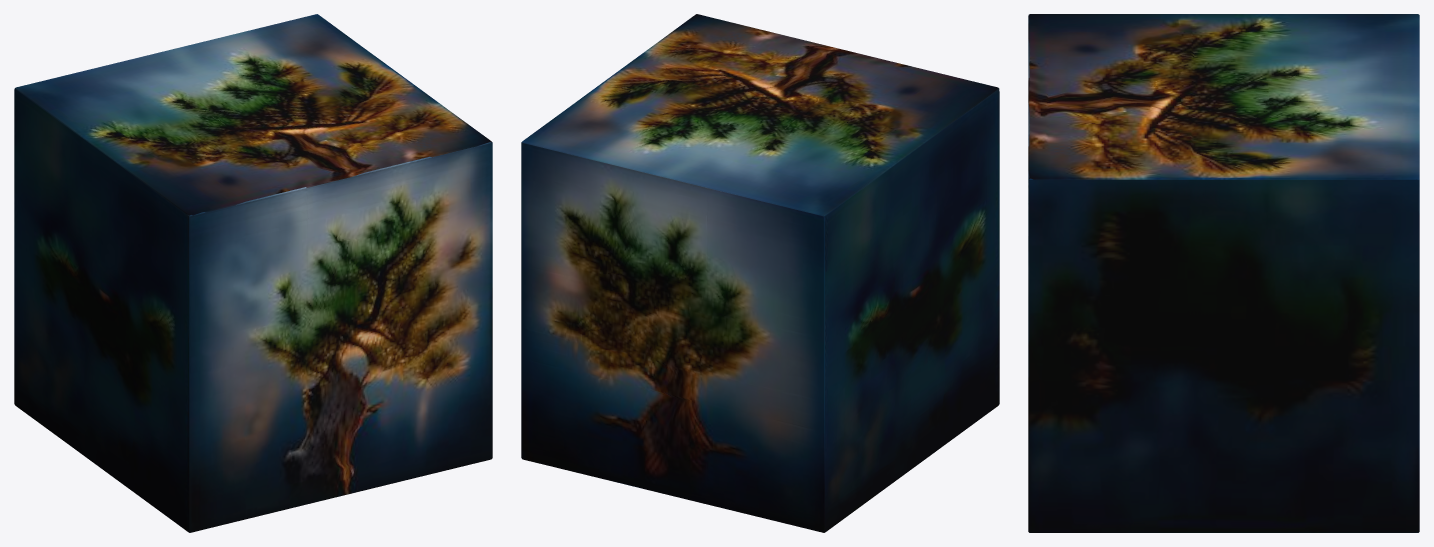
File: env_tree_pine_01.glb
3 views of the same model, side by side, from view 1: azimuth 30°, elevation 25°; view 2: azimuth 150°, elevation 25°; view 3: azimuth 270°, elevation 25° (orthographic). The views are drawn at different scales.
Visible parts, largest first — view 1: d62fe5fe-a557-42f6-9040-6defde6eb039_texturing.obj; view 2: d62fe5fe-a557-42f6-9040-6defde6eb039_texturing.obj; view 3: d62fe5fe-a557-42f6-9040-6defde6eb039_texturing.obj.
Boxes of the visible parts, x1,y1,x2,y2 form: d62fe5fe-a557-42f6-9040-6defde6eb039_texturing.obj: (14, 14, 492, 532); d62fe5fe-a557-42f6-9040-6defde6eb039_texturing.obj: (521, 14, 999, 532); d62fe5fe-a557-42f6-9040-6defde6eb039_texturing.obj: (1028, 14, 1419, 532).
Bounding box in the file's own units: 2 × 1.99 × 2.
1 material, 1 textured.
